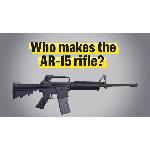Senapan: (1, 69, 142, 110)
